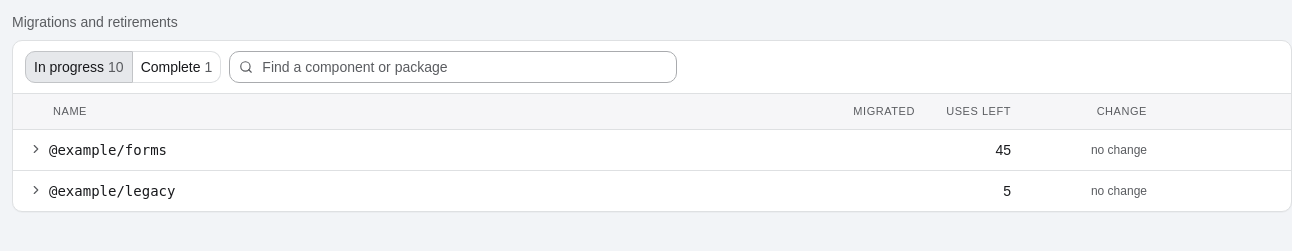
Test case: TrackingList › offers a search past 10 entries that opens the packages it matches and counts each side
Type "button" into the search field labelled "Find a component or package".
click(453, 67); type("button")  # box [229, 51, 677, 83]
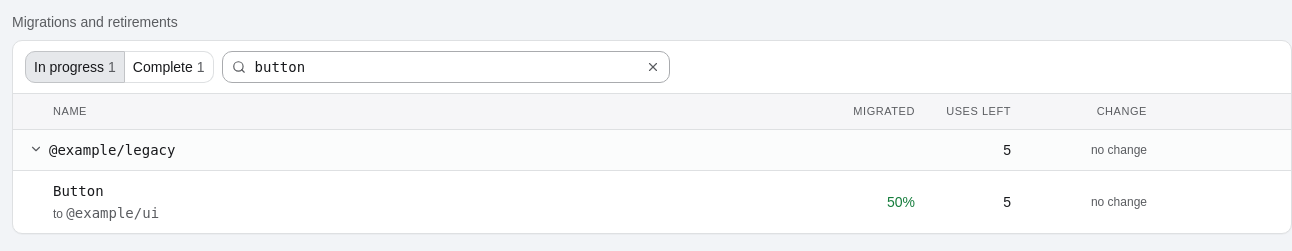
Expected: the button "In progress 1" is shown, [25, 51, 125, 83]
Expected: the button "Complete 1" is shown, [125, 51, 214, 83]
Replace the text in the search field with "nothing-like-it" at (446, 67), box [222, 51, 670, 83]
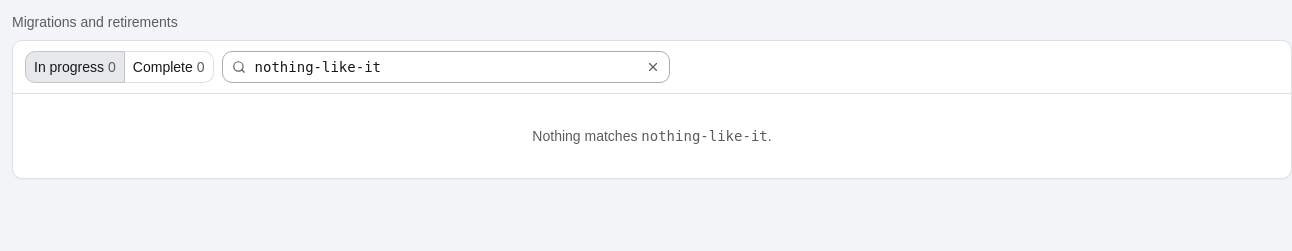
Now the text "Nothing matches nothing-like-it." is shown, box [532, 128, 772, 144]
